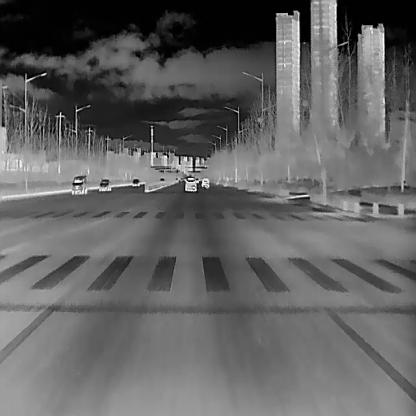car: (70, 174, 86, 195), (184, 176, 196, 191), (98, 177, 110, 190), (200, 176, 209, 188), (130, 177, 140, 186), (194, 176, 198, 182)
